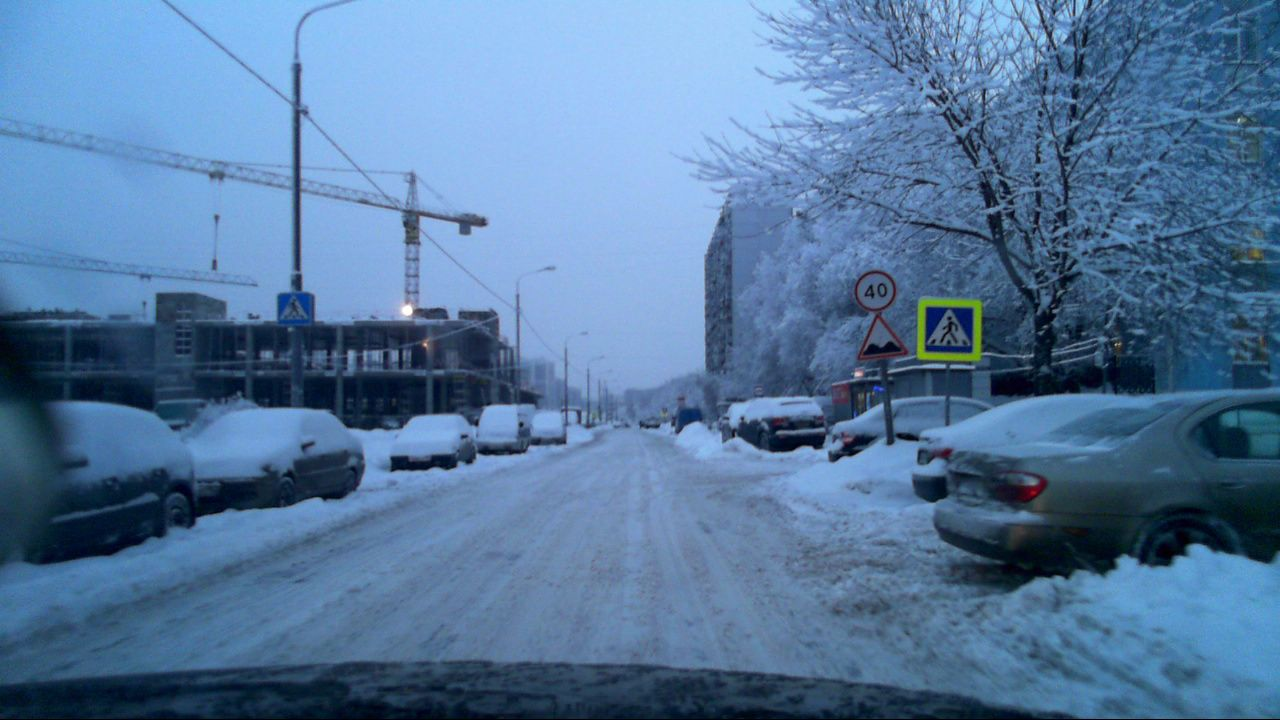speed_warning_40: (857, 268, 896, 310)
